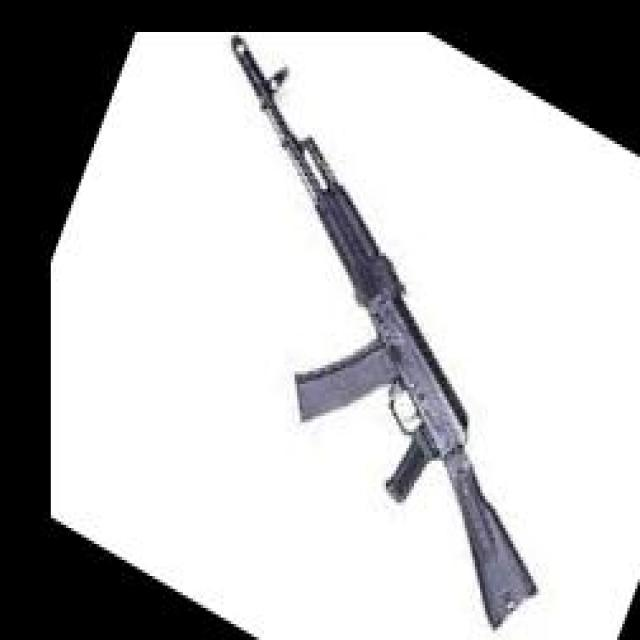weapon: (228, 33, 541, 634)
